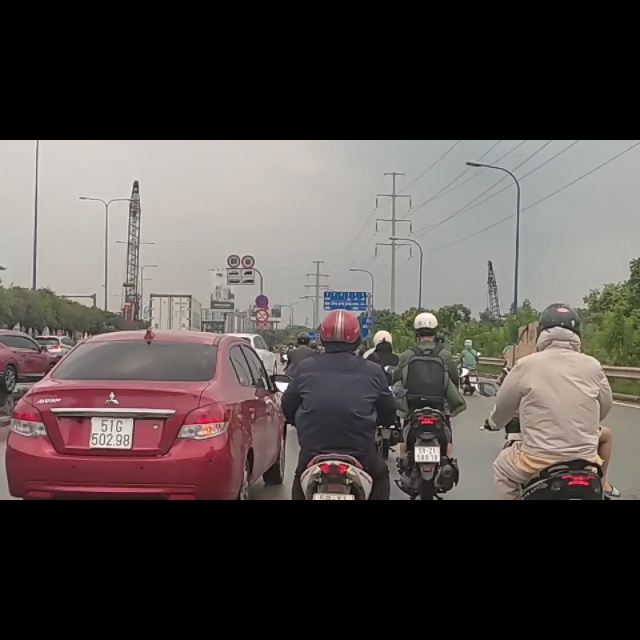bien_chi_dan: (254, 275, 269, 299)
